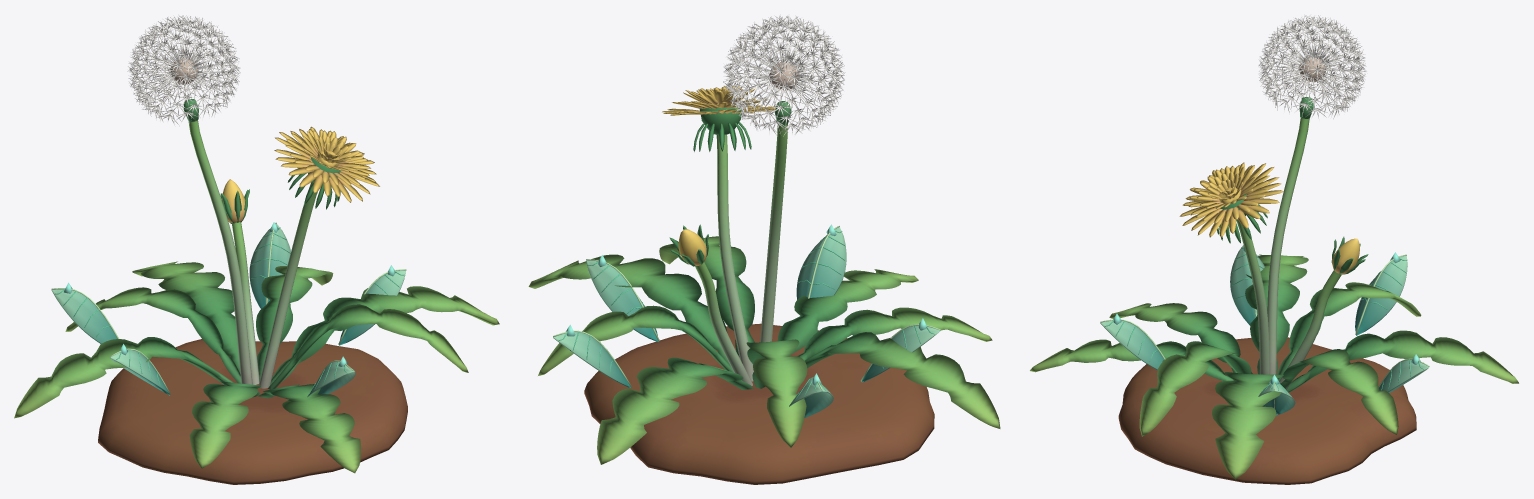
The model's file is enchanted-dandelion.glb.
3 renders of one model, left to right at view 1: azimuth 30°, elevation 25°; view 2: azimuth 150°, elevation 25°; view 3: azimuth 270°, elevation 25°, orthographic. The views are drawn at different scales.
Visible parts, largest first — view 1: dandelion_body, dandelion_seed_fluff, enchanted-dandelion-sculpted-details; view 2: dandelion_body, dandelion_seed_fluff, enchanted-dandelion-sculpted-details; view 3: dandelion_body, dandelion_seed_fluff, enchanted-dandelion-sculpted-details.
Boxes of the visible parts, <box> form: dandelion_body: <box>14,58,499,484</box>; dandelion_seed_fluff: <box>127,15,240,126</box>; enchanted-dandelion-sculpted-details: <box>51,222,406,397</box>; dandelion_body: <box>528,62,1000,484</box>; dandelion_seed_fluff: <box>723,15,846,136</box>; enchanted-dandelion-sculpted-details: <box>553,224,940,417</box>; dandelion_body: <box>1030,57,1518,484</box>; dandelion_seed_fluff: <box>1258,14,1367,119</box>; enchanted-dandelion-sculpted-details: <box>1100,245,1429,415</box>.
Size of the model in its own units: 4.22 by 3.42 by 4.03.
3 materials, 1 textured.
